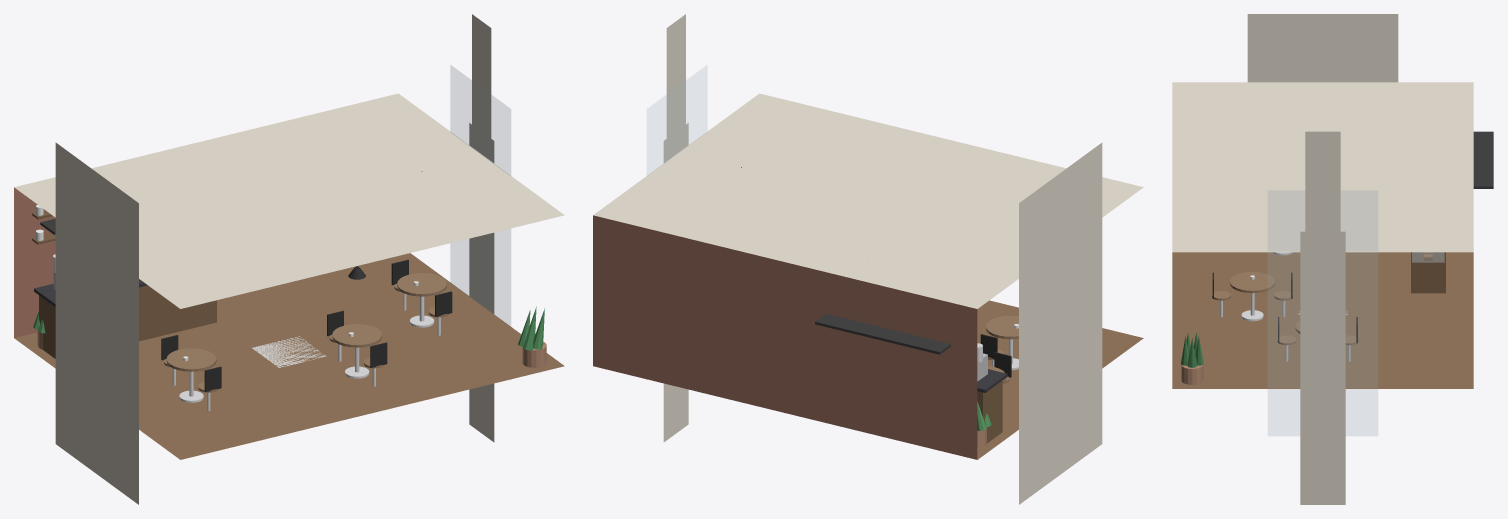
File: coffee-shop.glb
3 views of the same model, side by side, from view 1: azimuth 30°, elevation 25°; view 2: azimuth 150°, elevation 25°; view 3: azimuth 270°, elevation 25° (orthographic). The views are drawn at different scales.
Visible parts, largest first — view 1: Tran_Nha, San_Nha, Tuong_Trai, Cua_So_Kinh, Tuong_Sau, Quay_Bar_Than, Tuong_Phai_Duoi, Tuong_Phai_Tren, Plane, Ban_3_Mat, Ban_1_Mat, Ban_2_Mat; view 2: Tran_Nha, Tuong_Sau, Tuong_Trai, Cua_So_Kinh, San_Nha, Tuong_Phai_Tren, Bang_Menu, Tuong_Phai_Duoi, Quay_Bar_Than, Ban_1_Mat; view 3: Tran_Nha, San_Nha, Cua_So_Kinh, Tuong_Phai_Duoi, Tuong_Trai, Tuong_Phai_Tren, Quay_Bar_Than, Bang_Menu, Ban_2_Mat, Cay_Goc2_Chau.
Boxes of the visible parts, x1,y1,x2,y2 form: Tran_Nha: [14, 93, 564, 308]; San_Nha: [14, 253, 564, 459]; Tuong_Trai: [55, 142, 138, 504]; Cua_So_Kinh: [450, 65, 510, 326]; Tuong_Sau: [14, 187, 55, 337]; Quay_Bar_Than: [39, 285, 216, 358]; Tuong_Phai_Duoi: [469, 123, 494, 442]; Tuong_Phai_Tren: [472, 14, 491, 303]; Plane: [252, 336, 326, 367]; Ban_3_Mat: [397, 273, 446, 296]; Ban_1_Mat: [166, 348, 216, 371]; Ban_2_Mat: [332, 324, 381, 347]; Tran_Nha: [593, 93, 1143, 308]; Tuong_Sau: [593, 215, 977, 459]; Tuong_Trai: [1019, 142, 1102, 504]; Cua_So_Kinh: [647, 65, 707, 175]; San_Nha: [977, 300, 1143, 459]; Tuong_Phai_Tren: [666, 14, 685, 160]; Bang_Menu: [815, 313, 950, 354]; Tuong_Phai_Duoi: [663, 123, 688, 442]; Quay_Bar_Than: [977, 380, 1002, 443]; Ban_1_Mat: [986, 315, 1018, 339]; Tran_Nha: [1172, 82, 1473, 252]; San_Nha: [1172, 252, 1473, 388]; Cua_So_Kinh: [1268, 190, 1377, 435]; Tuong_Phai_Duoi: [1300, 231, 1345, 504]; Tuong_Trai: [1247, 14, 1398, 82]; Tuong_Phai_Tren: [1305, 131, 1340, 404]; Quay_Bar_Than: [1411, 252, 1445, 293]; Bang_Menu: [1473, 131, 1493, 188]; Ban_2_Mat: [1230, 271, 1275, 293]; Cay_Goc2_Chau: [1181, 365, 1203, 384].
Bounding box in the file's own units: 8 × 8.2 × 6.4.
